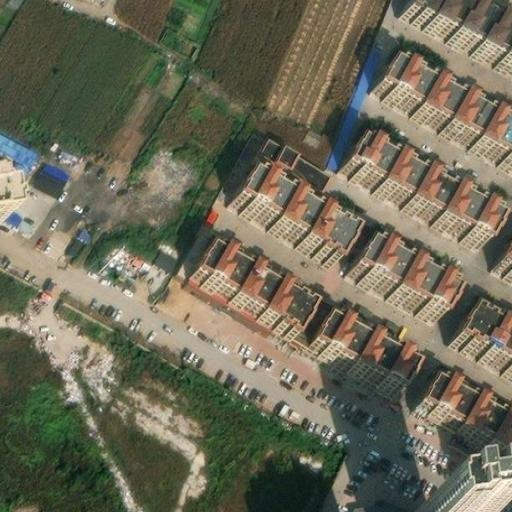building: (342, 139, 496, 244), (375, 58, 512, 162), (190, 245, 310, 335), (231, 168, 350, 258), (349, 236, 456, 318), (415, 378, 512, 463), (308, 315, 411, 392), (331, 34, 386, 153), (256, 132, 328, 186), (453, 303, 512, 368), (338, 482, 432, 512), (33, 155, 70, 190), (490, 232, 512, 285), (392, 497, 456, 512), (294, 309, 322, 342)
